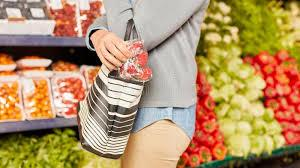shoplifting: (79, 6, 165, 159)
